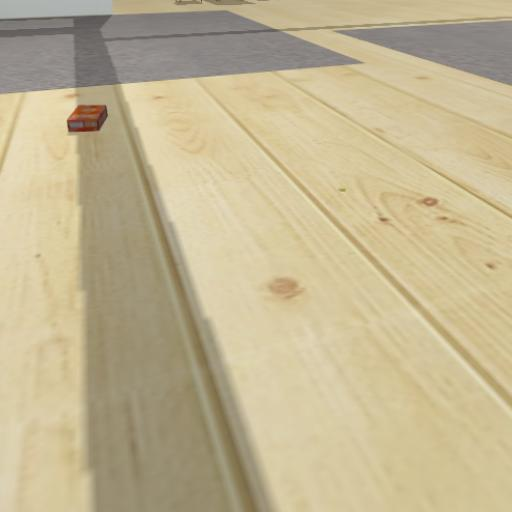BOX_R: (40, 81, 134, 160)
